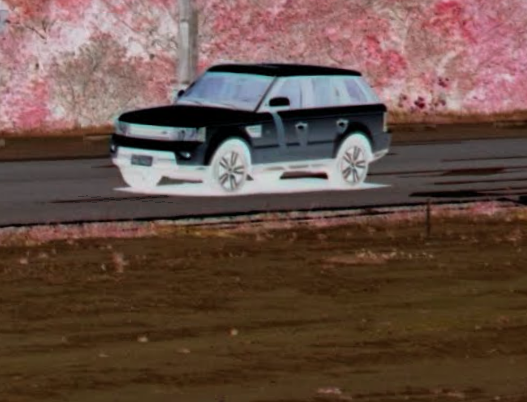car: (106, 62, 393, 195)
